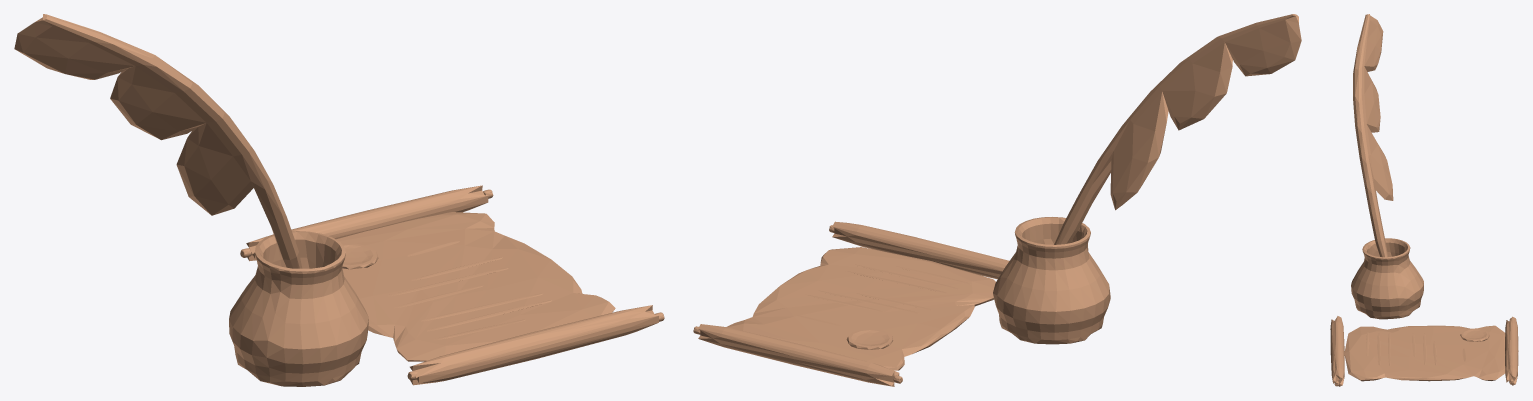
File: literature.glb
3 renders of one model, left to right at view 1: azimuth 30°, elevation 25°; view 2: azimuth 150°, elevation 25°; view 3: azimuth 270°, elevation 25°, orthographic. The views are drawn at different scales.
Visible parts, largest first — view 1: literature__orient; view 2: literature__orient; view 3: literature__orient.
Part boxes in pixels (bbox=[...]): literature__orient: bbox=[14, 14, 664, 386]; literature__orient: bbox=[693, 14, 1301, 386]; literature__orient: bbox=[1330, 14, 1518, 386].
Bounding box in the file's own units: 1 × 0.6839 × 0.5142.
